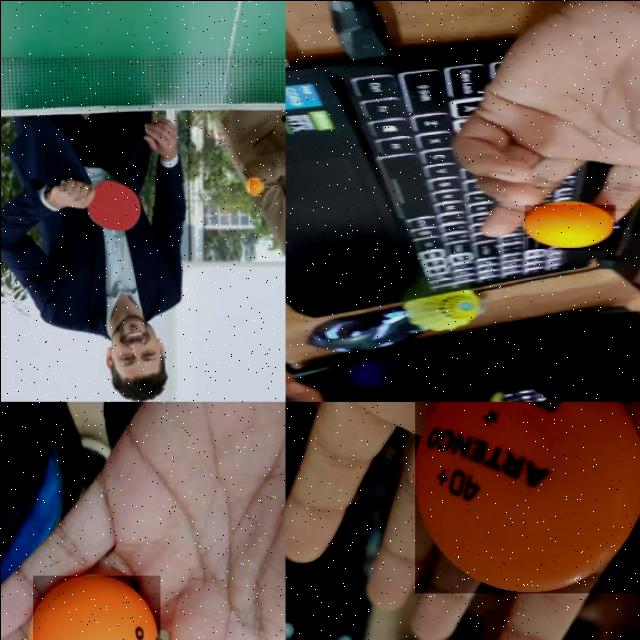ping-pong-ball: (412, 402, 640, 594), (30, 574, 160, 640), (522, 203, 615, 250), (248, 178, 262, 194)
